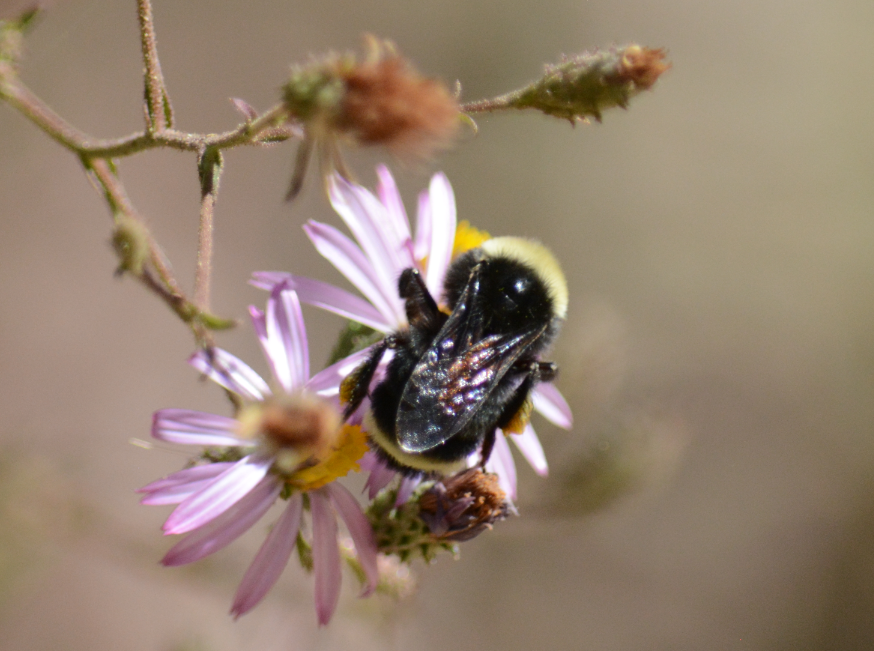bumblebee: (336, 233, 570, 483)
